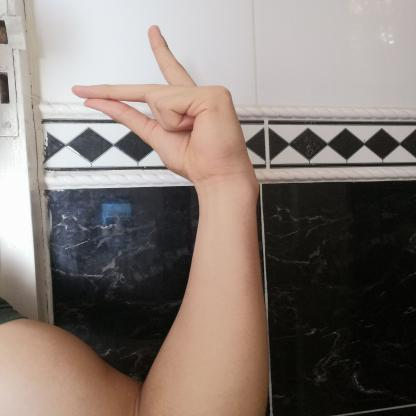TAA: (59, 17, 264, 190)
